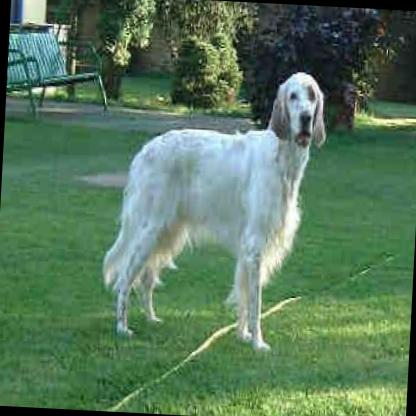English_setter: (94, 58, 329, 354)
